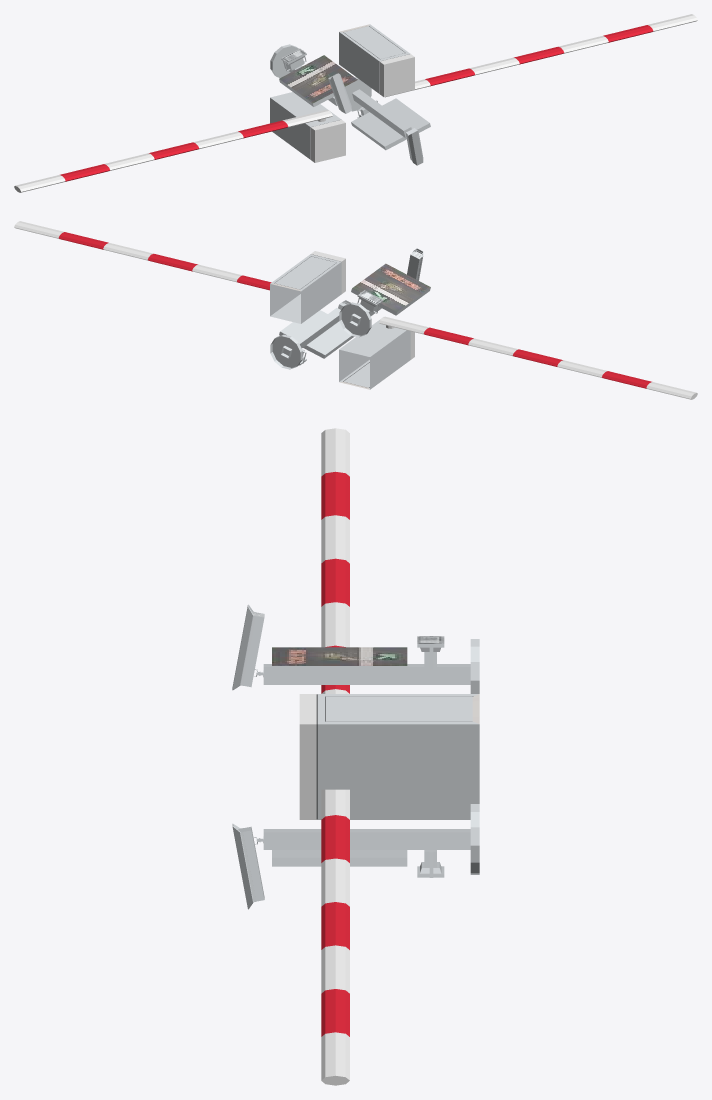
The picture shows the model from 3 angles, top to bottom: view 1: azimuth 30°, elevation 25°; view 2: azimuth 150°, elevation 25°; view 3: azimuth 270°, elevation 25°; orthographic projection. The views are drawn at different scales.
Parts seen in each view (by area): view 1: 摄像头2; view 2: 摄像头2; view 3: 摄像头2.
Part boxes in pixels (x1,y1,x2,y2): 摄像头2: [14, 14, 697, 192]; 摄像头2: [14, 221, 697, 399]; 摄像头2: [232, 428, 479, 1085].
Size of the model in its own units: 8.68 by 1.37 by 1.37.
Materials: 8 (4 with a texture image).
